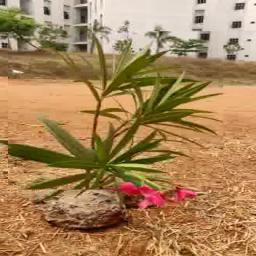OLEANDER: (8, 31, 224, 190)
